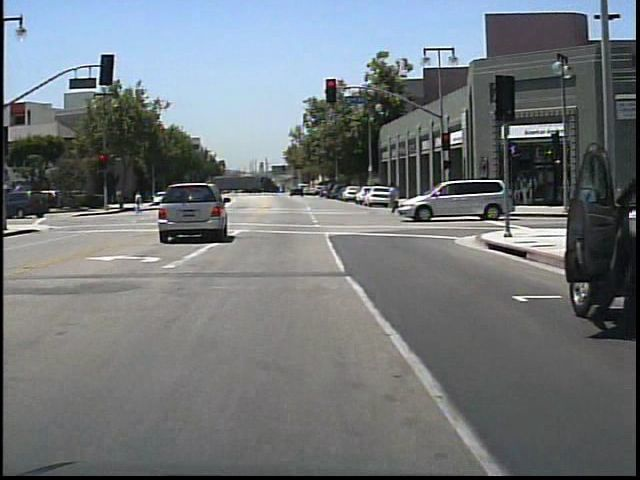person: (385, 182, 405, 217), (133, 190, 149, 218)
